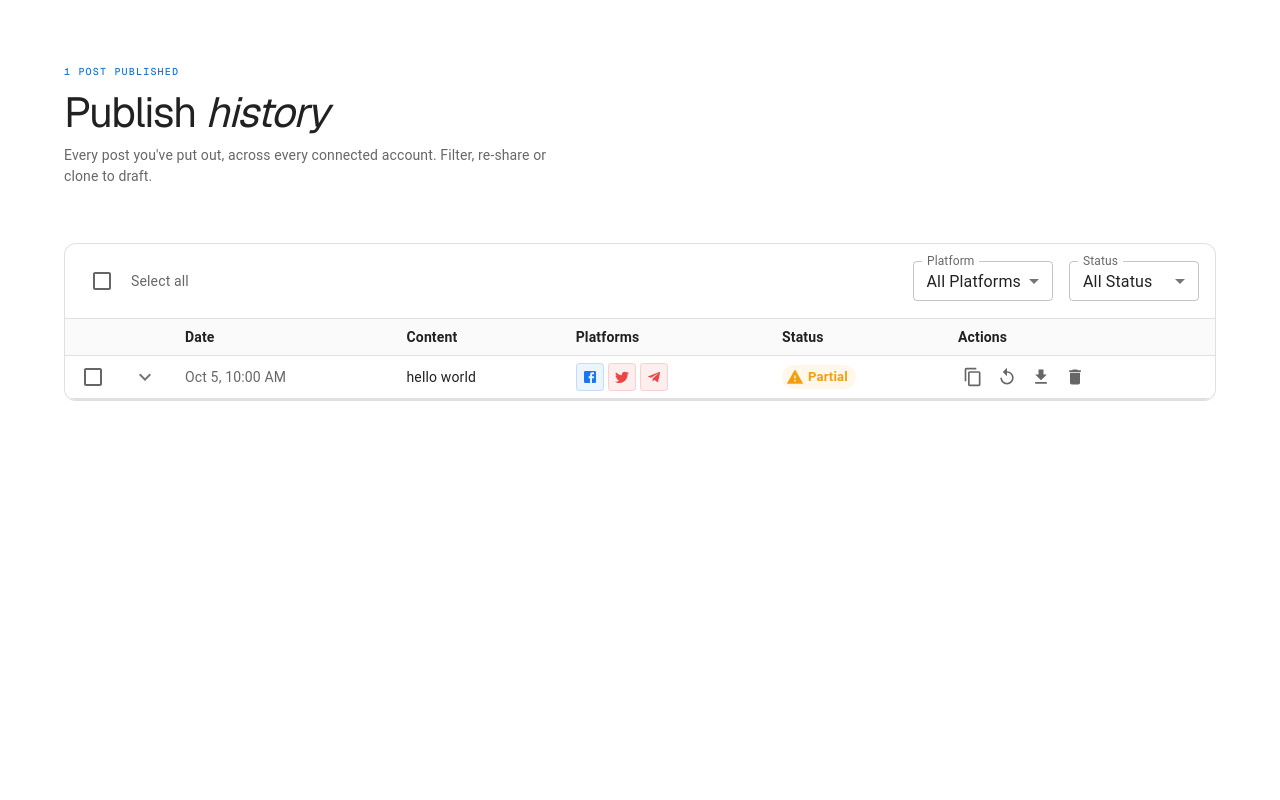
Test: History retry › retries one failed destination and shows its new outcome
The image size is (1280, 800).
Click the button named "Show details of post 99".
click(145, 377)  # box [133,365,157,389]
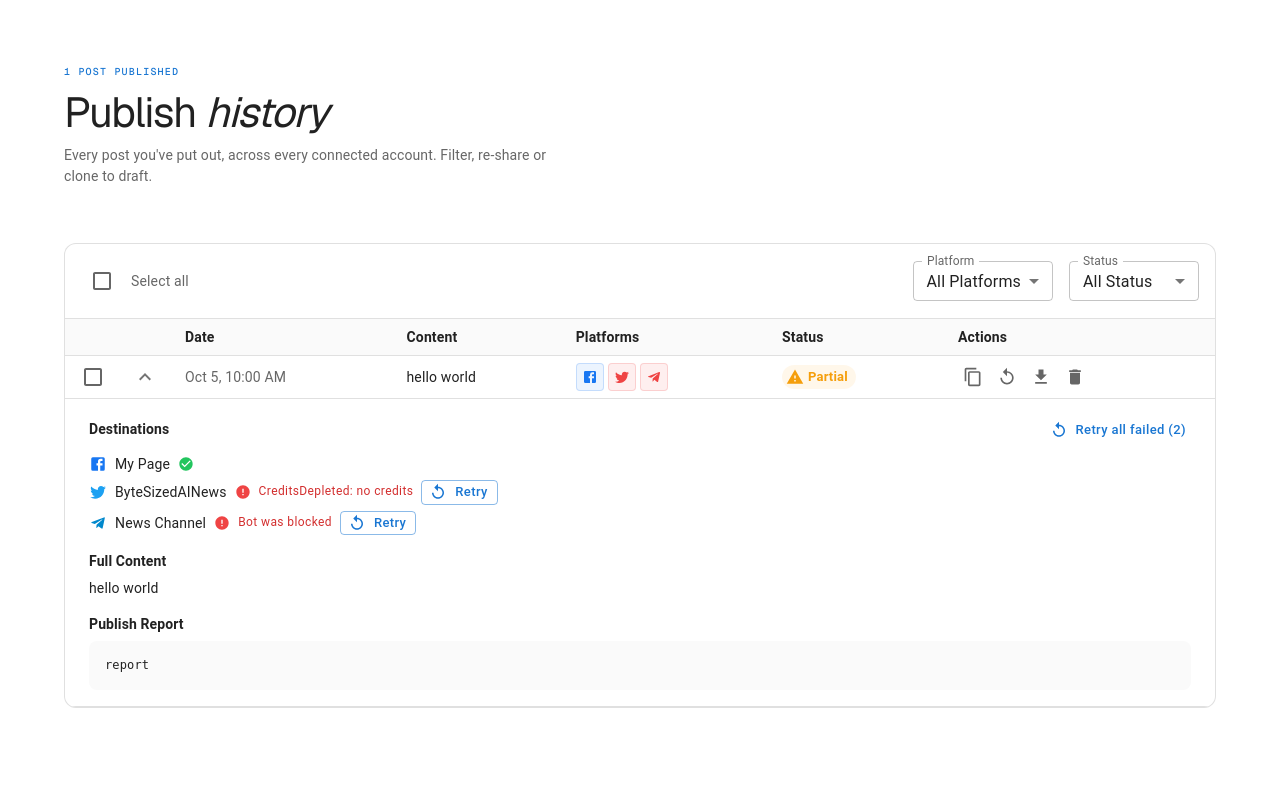
Click the button with aria-label "Retry News Channel".
click(378, 523)  # box [340,510,416,535]
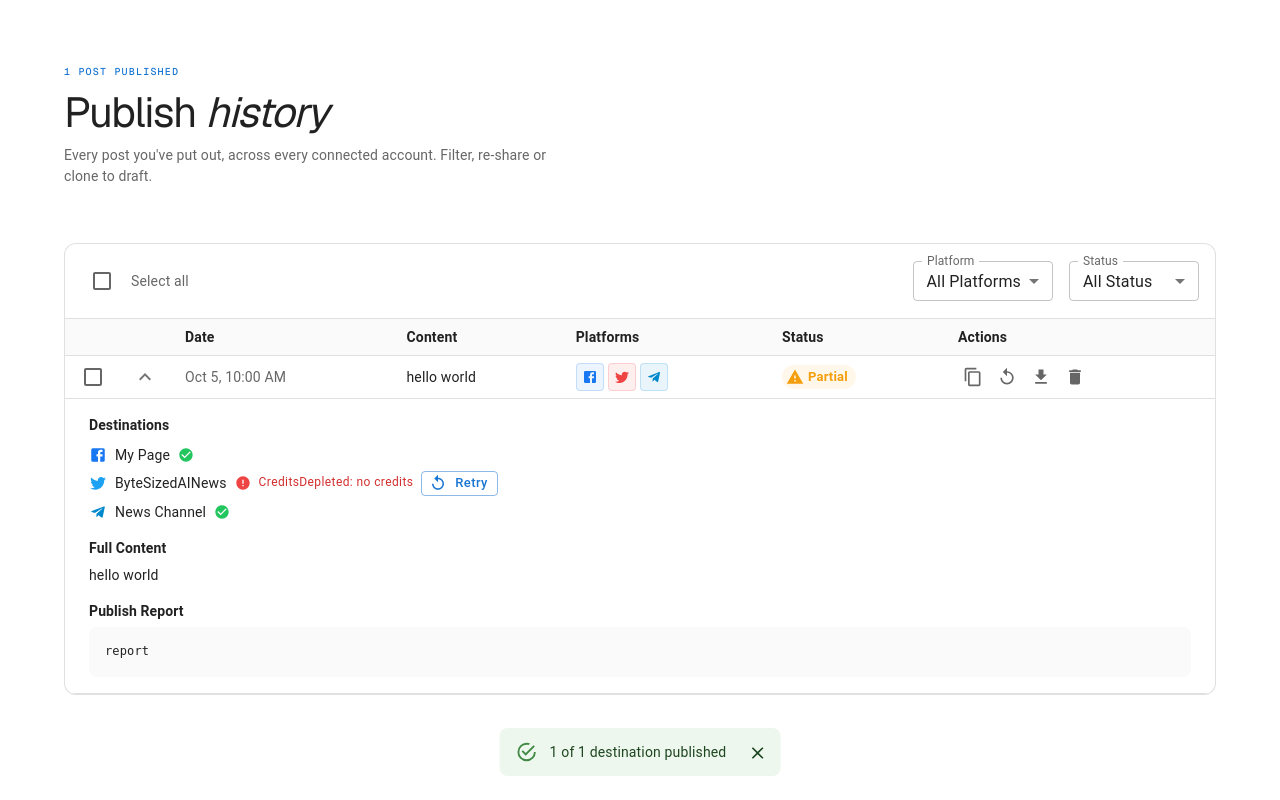
Expected: the text "1 of 1 destination published" is shown, [550,744,726,760]
